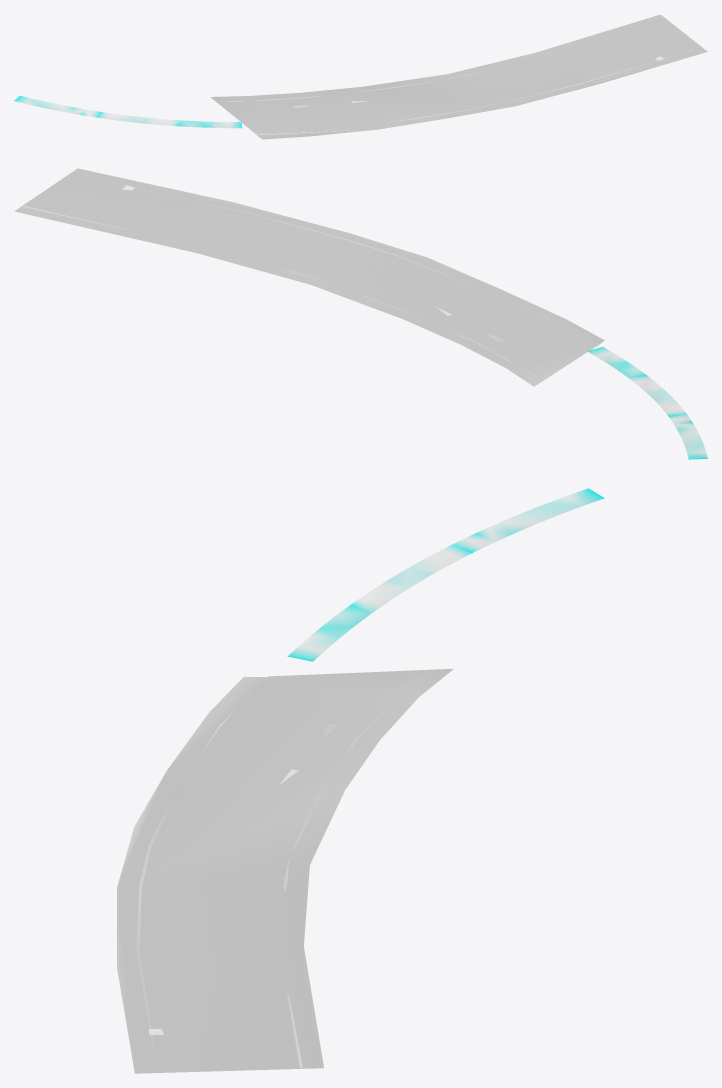
The model's file is cell_75_51.fbx.
3 renders of one model, top to bottom at view 1: azimuth 30°, elevation 25°; view 2: azimuth 150°, elevation 25°; view 3: azimuth 270°, elevation 25°, orthographic. The views are drawn at different scales.
Parts seen in each view (by area): view 1: SpaceCenter_Long3_GenerateRoad_Asphalt_Mesh_x94_y64_14916_HD, SpaceCenter_Long3_GenerateRoad_Asphalt_PCGMesh_Decal_Mesh_x9; view 2: SpaceCenter_Long3_GenerateRoad_Asphalt_Mesh_x94_y64_14916_HD, SpaceCenter_Long3_GenerateRoad_Asphalt_PCGMesh_Decal_Mesh_x9; view 3: SpaceCenter_Long3_GenerateRoad_Asphalt_Mesh_x94_y64_14916_HD, SpaceCenter_Long3_GenerateRoad_Asphalt_PCGMesh_Decal_Mesh_x9.
Part boxes in pixels (bbox=[...]): SpaceCenter_Long3_GenerateRoad_Asphalt_Mesh_x94_y64_14916_HD: bbox=[210, 14, 707, 139]; SpaceCenter_Long3_GenerateRoad_Asphalt_PCGMesh_Decal_Mesh_x9: bbox=[14, 95, 242, 128]; SpaceCenter_Long3_GenerateRoad_Asphalt_Mesh_x94_y64_14916_HD: bbox=[14, 168, 604, 386]; SpaceCenter_Long3_GenerateRoad_Asphalt_PCGMesh_Decal_Mesh_x9: bbox=[587, 347, 707, 459]; SpaceCenter_Long3_GenerateRoad_Asphalt_Mesh_x94_y64_14916_HD: bbox=[117, 668, 453, 1073]; SpaceCenter_Long3_GenerateRoad_Asphalt_PCGMesh_Decal_Mesh_x9: bbox=[287, 488, 604, 661].
Bounding box in the file's own units: 88.89 × 2.21 × 32.35.
